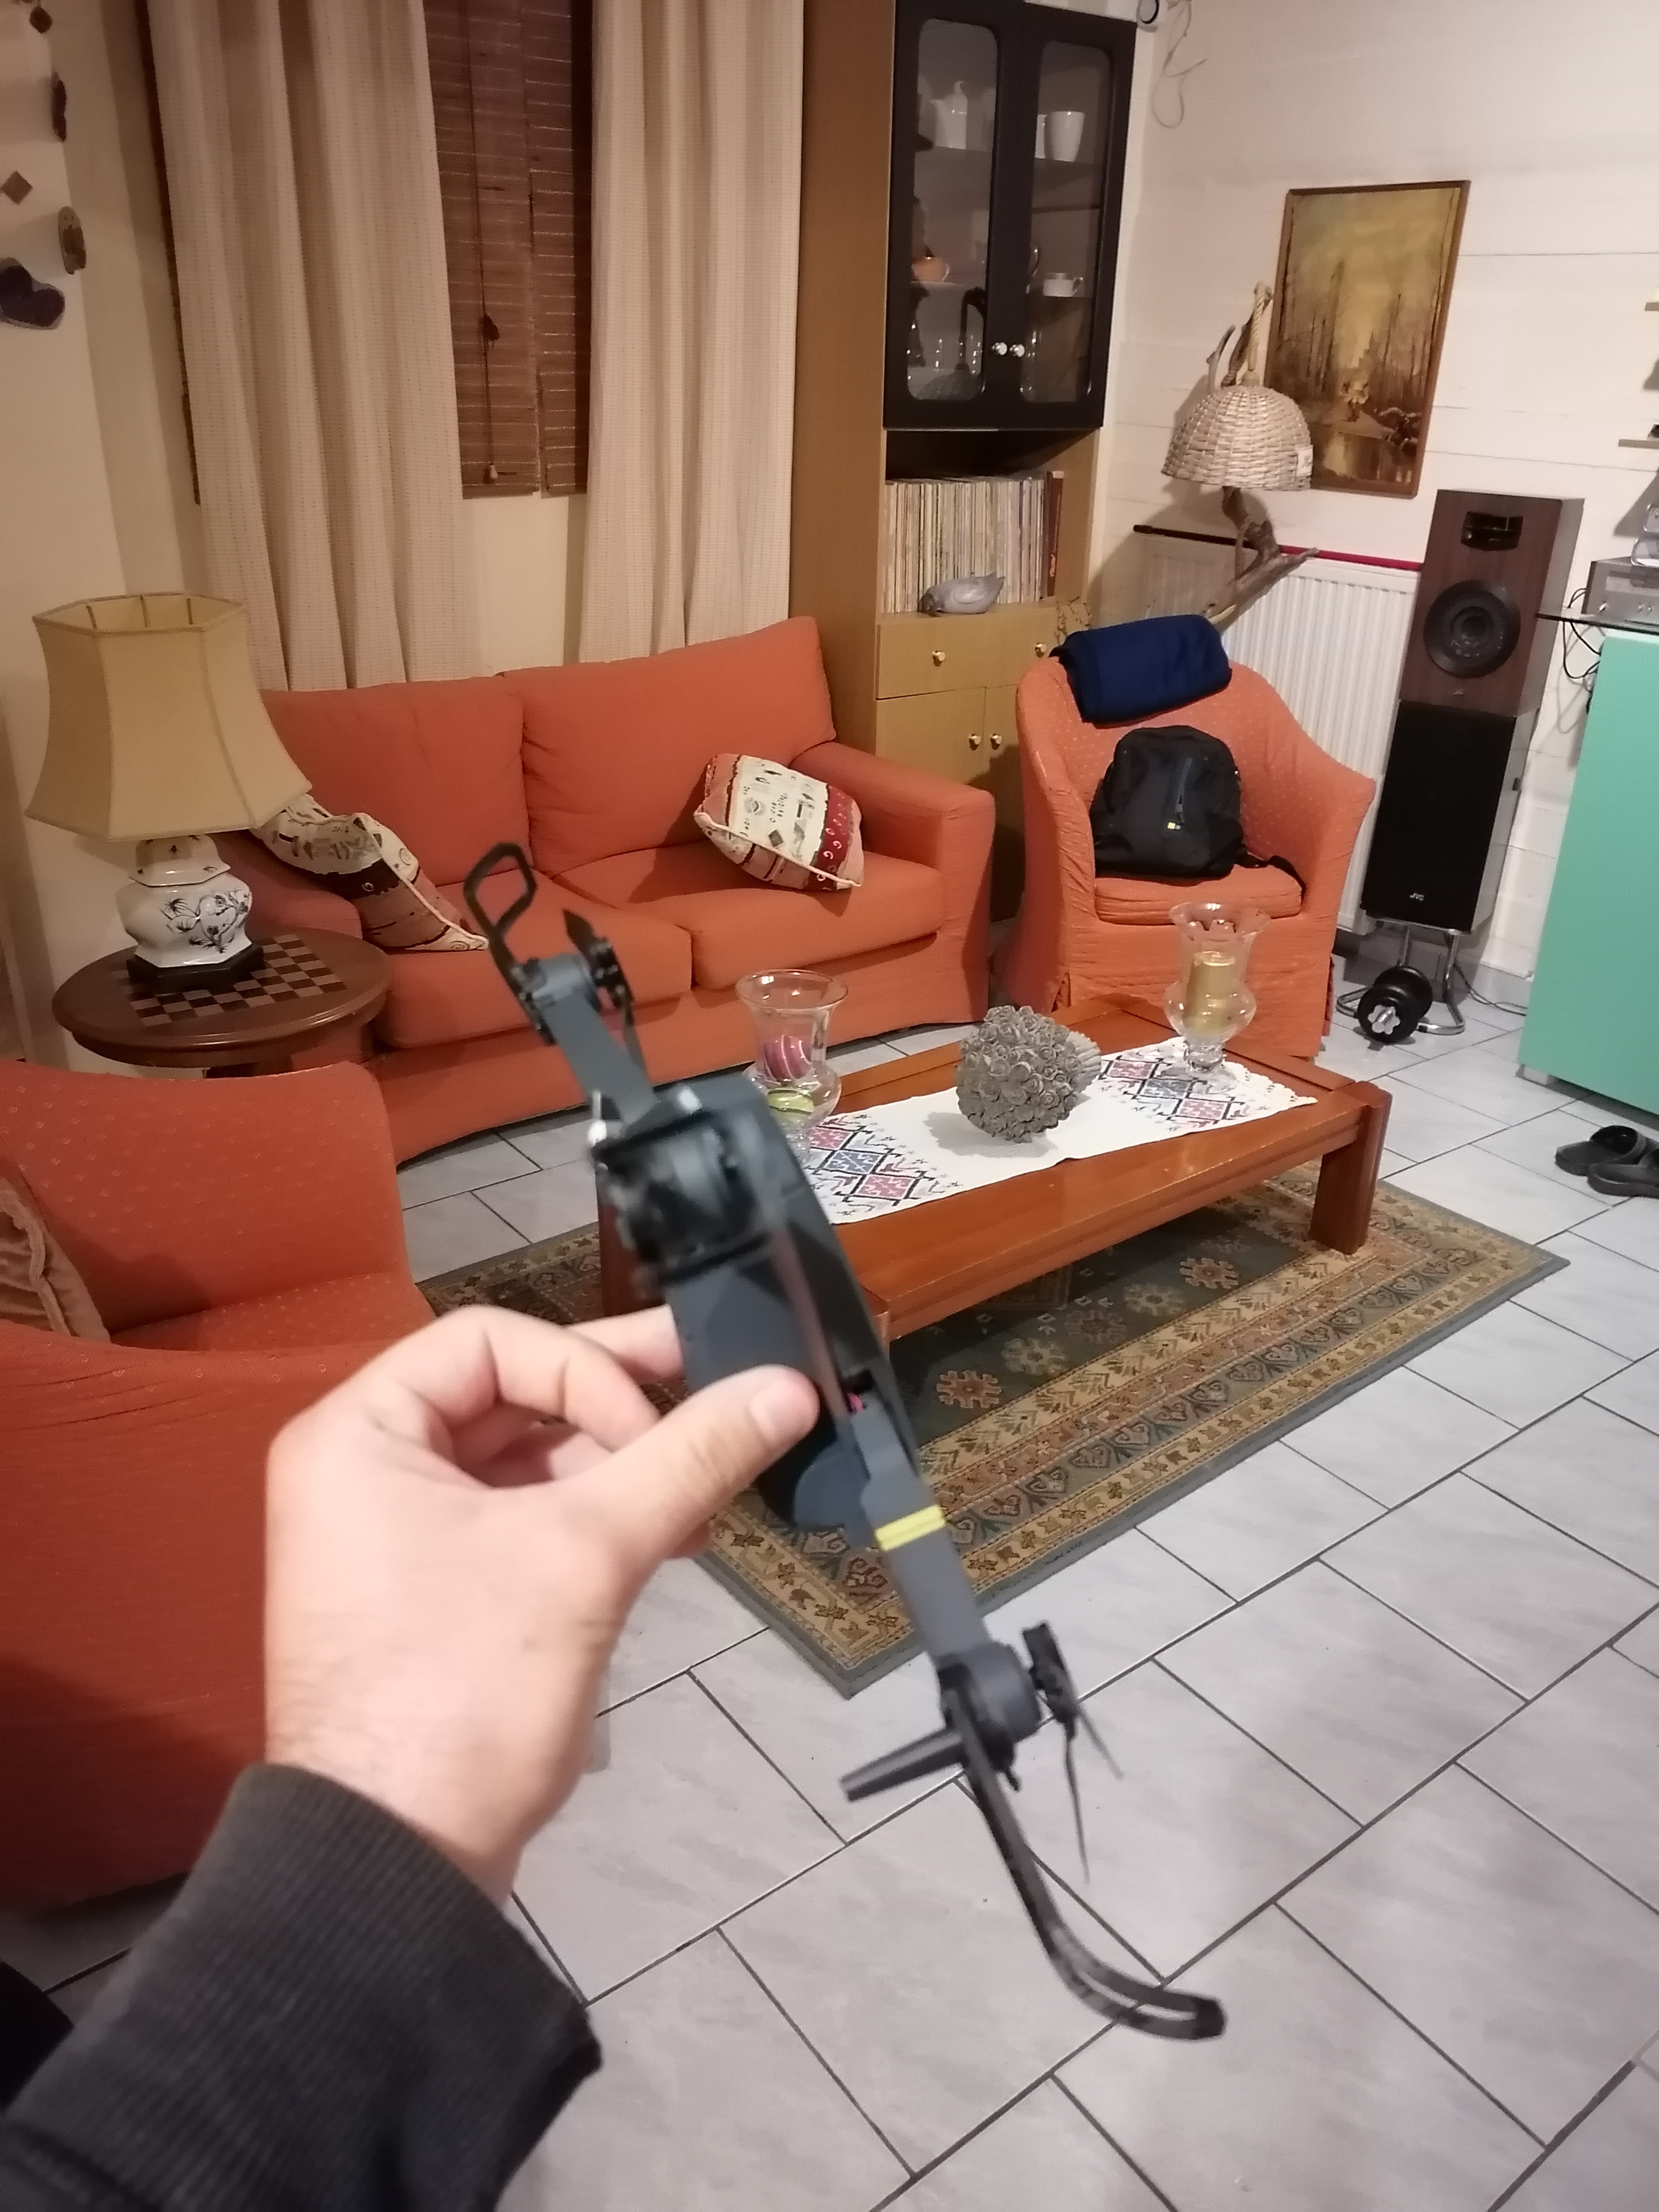drone: (389, 796, 1302, 2099)
